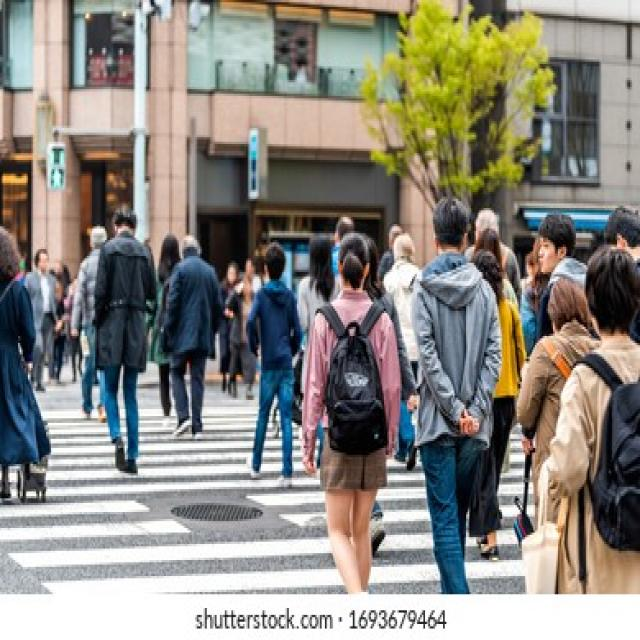Pedestrians: (525, 245, 640, 592), (414, 199, 506, 592), (300, 233, 400, 594), (92, 208, 156, 478), (242, 244, 300, 492), (2, 229, 49, 505), (166, 236, 220, 444)
